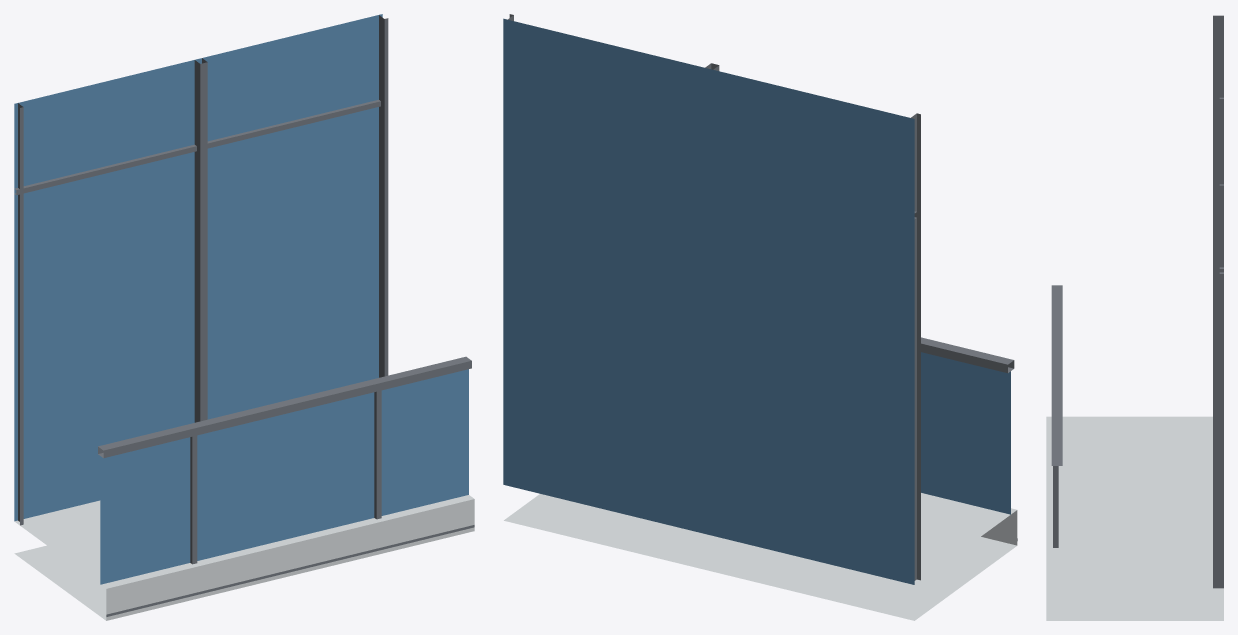
Rendered from mid-w1_close.fbx.
3 views of the same model, side by side, from view 1: azimuth 30°, elevation 25°; view 2: azimuth 150°, elevation 25°; view 3: azimuth 270°, elevation 25° (orthographic). The views are drawn at different scales.
Parts seen in each view (by area): view 1: a2002/800/mid-w1_close; view 2: a2002/800/mid-w1_close; view 3: a2002/800/mid-w1_close.
Boxes of the visible parts, x1,y1,x2,y2 form: a2002/800/mid-w1_close: [14, 14, 474, 620]; a2002/800/mid-w1_close: [503, 14, 1017, 620]; a2002/800/mid-w1_close: [1046, 15, 1223, 620].
Bounding box in the file's own units: 3 × 3.5 × 1.3.
